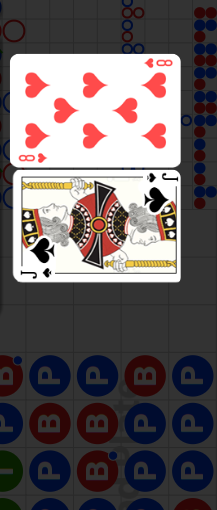8H: (142, 56, 174, 70)
JS: (132, 171, 179, 215), (12, 238, 58, 282)
